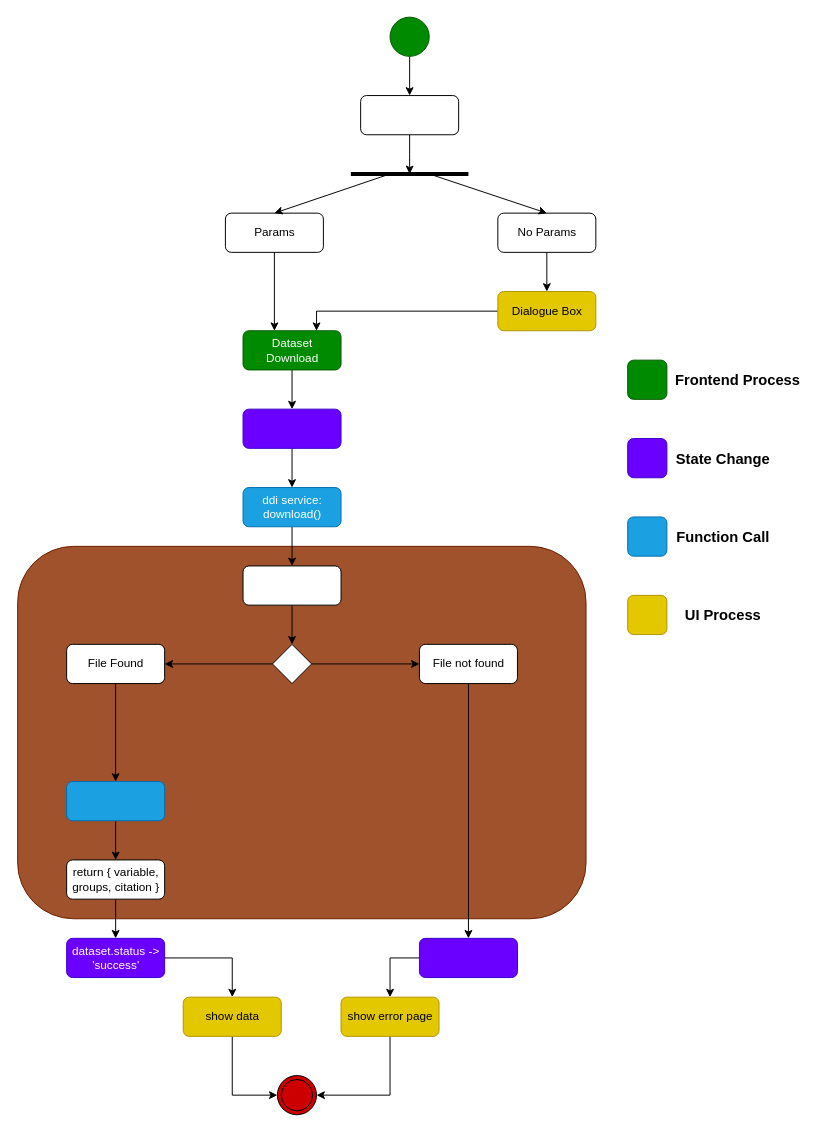
The diagram is 827 pixels wide and 1132 high, and some of its shapes have lost their labels. Each missing label, with the centre of its shape:
dataset.status -> 'error': point (467, 957)
dataset.status -> 'init': point (291, 428)
dataverse file access call: point (291, 585)
Launch Site: point (409, 115)
parseXML: point (115, 801)
